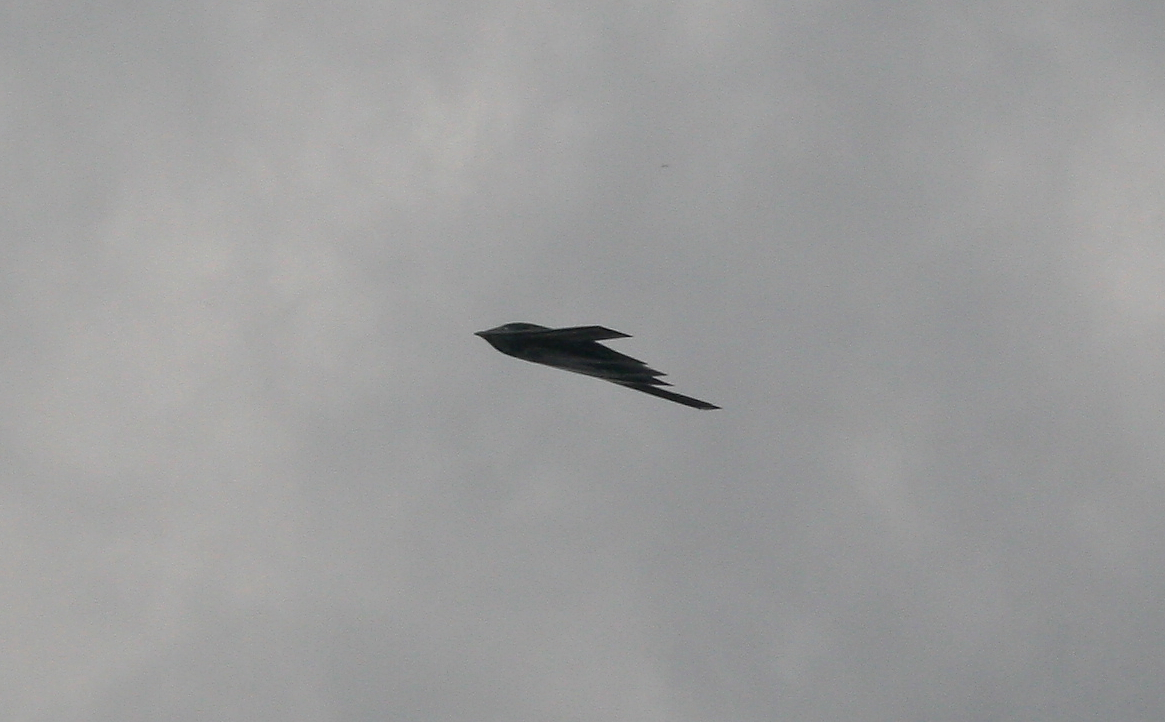B2: (472, 322, 722, 410)
